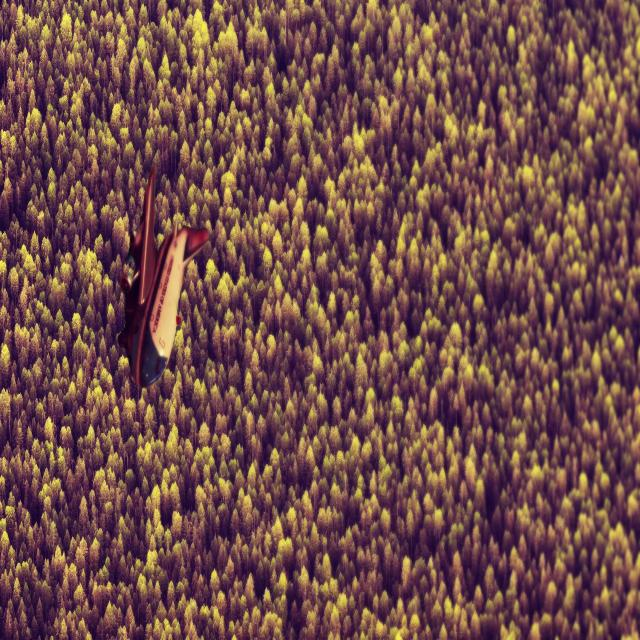airplane: (116, 164, 209, 389)
